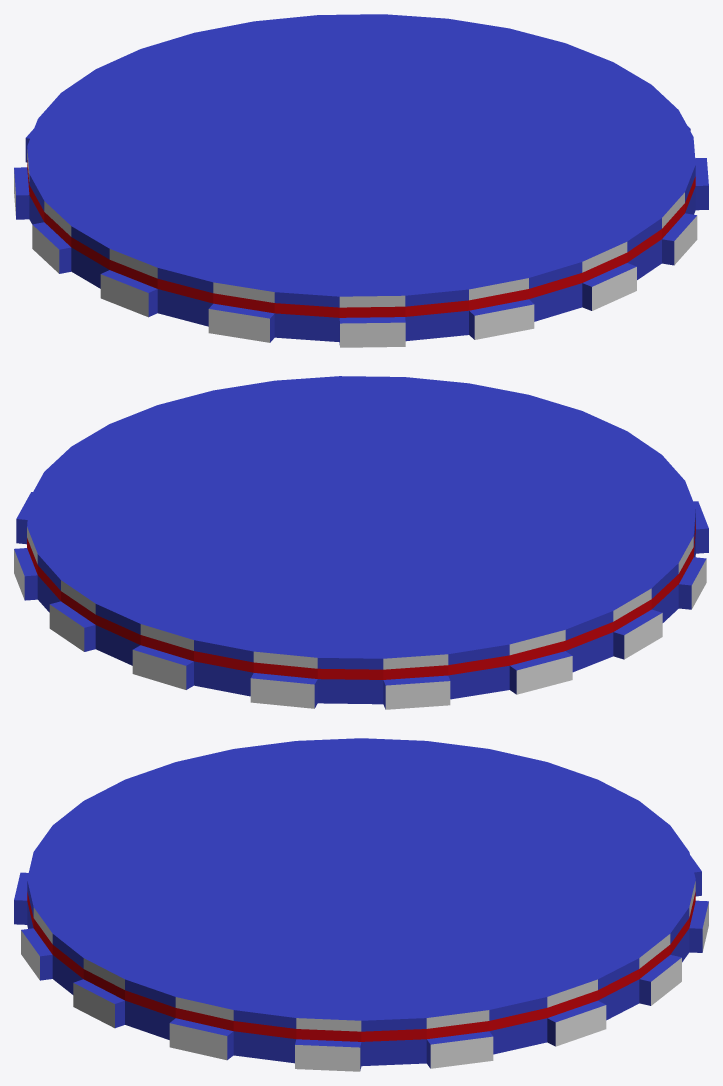
File: CarStandVer8.fbx
The picture shows the model from 3 angles, top to bottom: view 1: azimuth 30°, elevation 25°; view 2: azimuth 150°, elevation 25°; view 3: azimuth 270°, elevation 25°; orthographic projection.
Visible parts, largest first — view 1: Cylinder; view 2: Cylinder; view 3: Cylinder.
Boxes of the visible parts, x1,y1,x2,y2 form: Cylinder: (14,14,708,347); Cylinder: (14,376,708,709); Cylinder: (14,738,708,1071).
Size of the model in its own units: 1010 by 72.84 by 1010.
